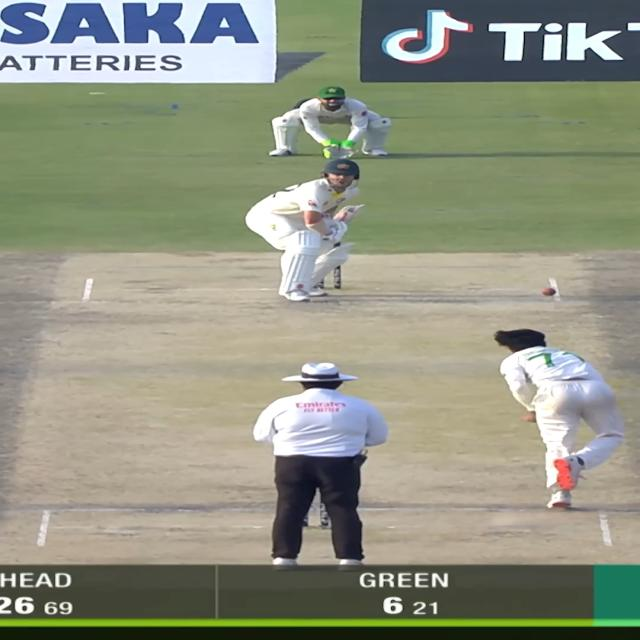Cricket ball: (540, 287, 558, 297)
